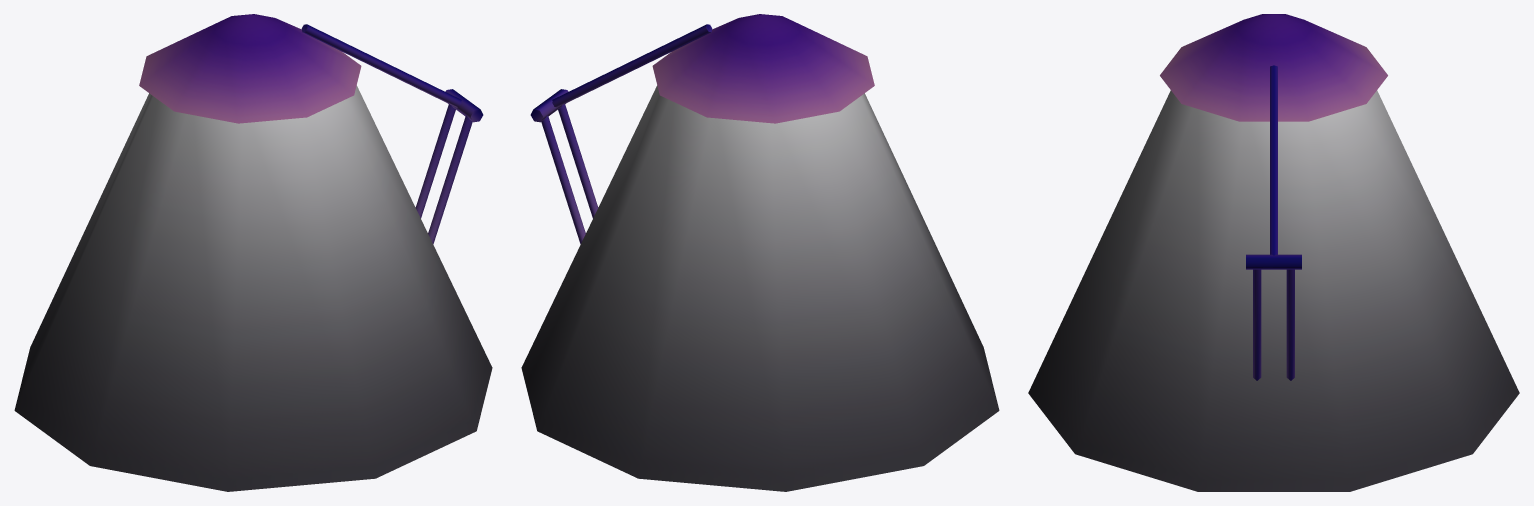
Rendered from Desk_Lamp.fbx.
The picture shows the model from 3 angles, left to right: view 1: azimuth 30°, elevation 25°; view 2: azimuth 150°, elevation 25°; view 3: azimuth 270°, elevation 25°; orthographic projection.
Parts seen in each view (by area): view 1: Light, Desk_Lamp; view 2: Light, Desk_Lamp; view 3: Light, Desk_Lamp.
Part boxes in pixels (x1=…): Light: x1=14, y1=85, x2=492, y2=491; Desk_Lamp: x1=139, y1=14, x2=483, y2=244; Light: x1=521, y1=85, x2=999, y2=491; Desk_Lamp: x1=530, y1=14, x2=874, y2=244; Light: x1=1028, y1=90, x2=1519, y2=491; Desk_Lamp: x1=1160, y1=14, x2=1387, y2=380.
Size of the model in its own units: 65.75 by 56.42 by 66.68.
